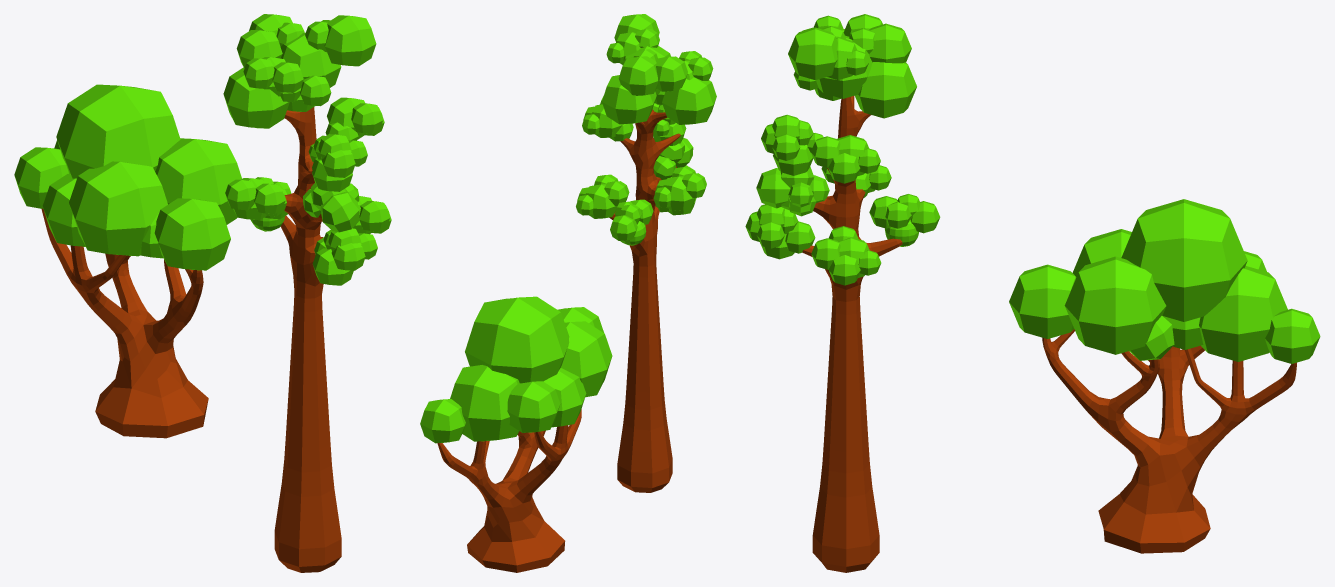
The model's file is Trees.fbx.
The picture shows the model from 3 angles, left to right: view 1: azimuth 30°, elevation 25°; view 2: azimuth 150°, elevation 25°; view 3: azimuth 270°, elevation 25°; orthographic projection. The views are drawn at different scales.
Visible parts, largest first — view 1: tree2, tree1; view 2: tree2, tree1; view 3: tree2, tree1.
Boxes of the visible parts, x1,y1,x2,y2 form: tree2: (14, 84, 241, 438); tree1: (223, 14, 391, 572); tree2: (420, 296, 612, 572); tree1: (576, 14, 716, 492); tree2: (1009, 199, 1320, 553); tree1: (745, 14, 940, 572).
Size of the model in its own units: 327 by 998 by 946.
